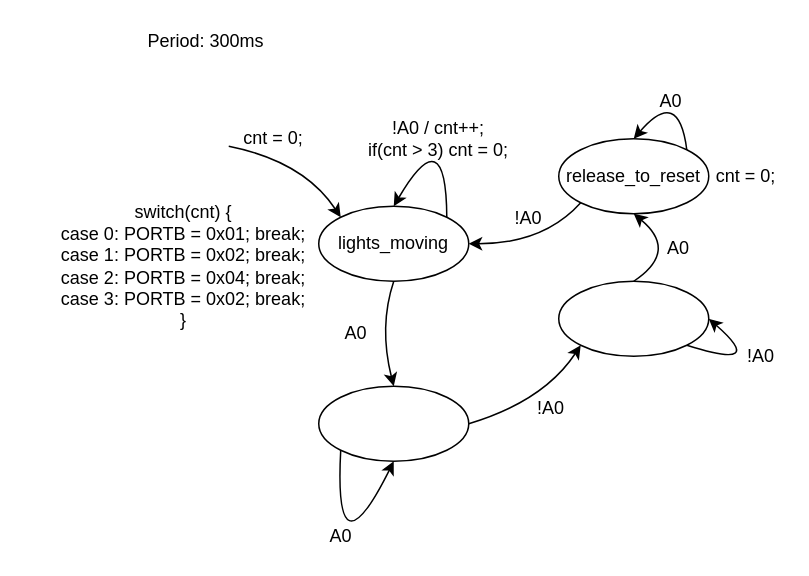
This 809x576 diagram has some shape labels left out. The box of each missing label's shape, as (x1, y1, x2, y2) in pixels:
lights_stopped: (317, 385, 469, 461)
wait_reset: (557, 280, 709, 356)
